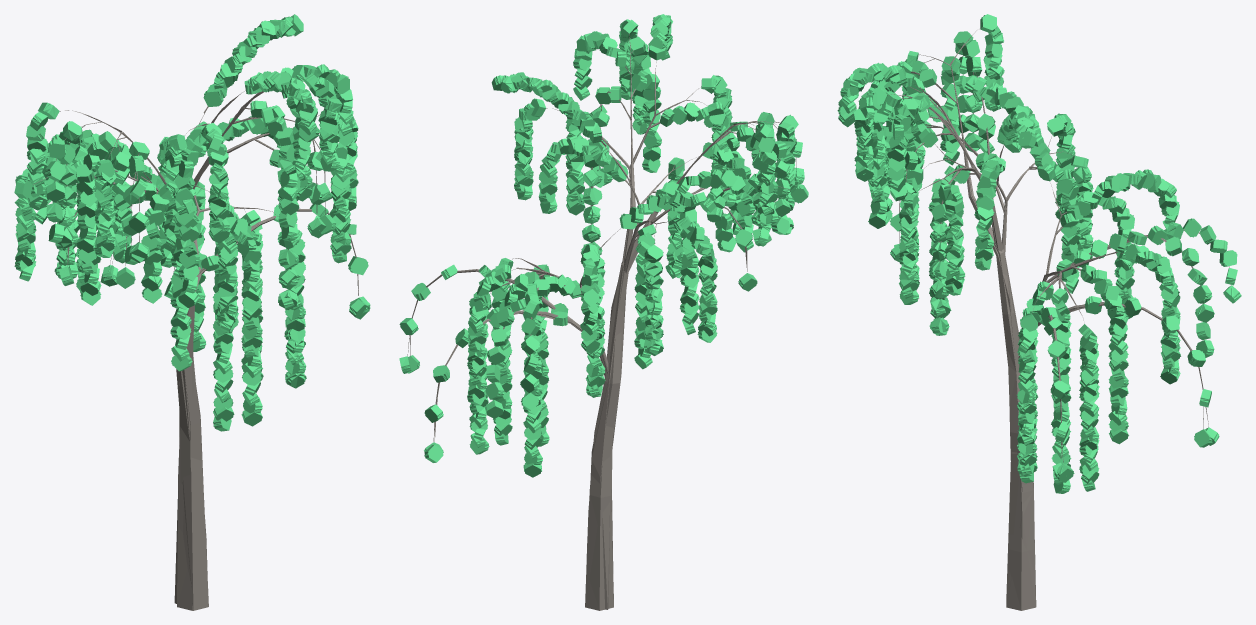
Rendered from fallenBranchesTreeL.fbx.
The picture shows the model from 3 angles, left to right: view 1: azimuth 30°, elevation 25°; view 2: azimuth 150°, elevation 25°; view 3: azimuth 270°, elevation 25°; orthographic projection. The views are drawn at different scales.
Parts seen in each view (by area): view 1: fallenBranchesTreeL, fallenBranchesTreeL1, fallenBranchesTreeL2; view 2: fallenBranchesTreeL, fallenBranchesTreeL1, fallenBranchesTreeL2; view 3: fallenBranchesTreeL, fallenBranchesTreeL1, fallenBranchesTreeL2.
Part boxes in pixels (bbox=[...]): fallenBranchesTreeL: bbox=[14, 15, 370, 610]; fallenBranchesTreeL1: bbox=[15, 16, 370, 610]; fallenBranchesTreeL2: bbox=[14, 14, 369, 610]; fallenBranchesTreeL: bbox=[399, 14, 808, 610]; fallenBranchesTreeL1: bbox=[400, 15, 808, 610]; fallenBranchesTreeL2: bbox=[399, 15, 802, 609]; fallenBranchesTreeL: bbox=[838, 14, 1241, 610]; fallenBranchesTreeL1: bbox=[838, 15, 1240, 610]; fallenBranchesTreeL2: bbox=[837, 17, 1240, 606].
Bounding box in the file's own units: 377 × 525 × 352.
